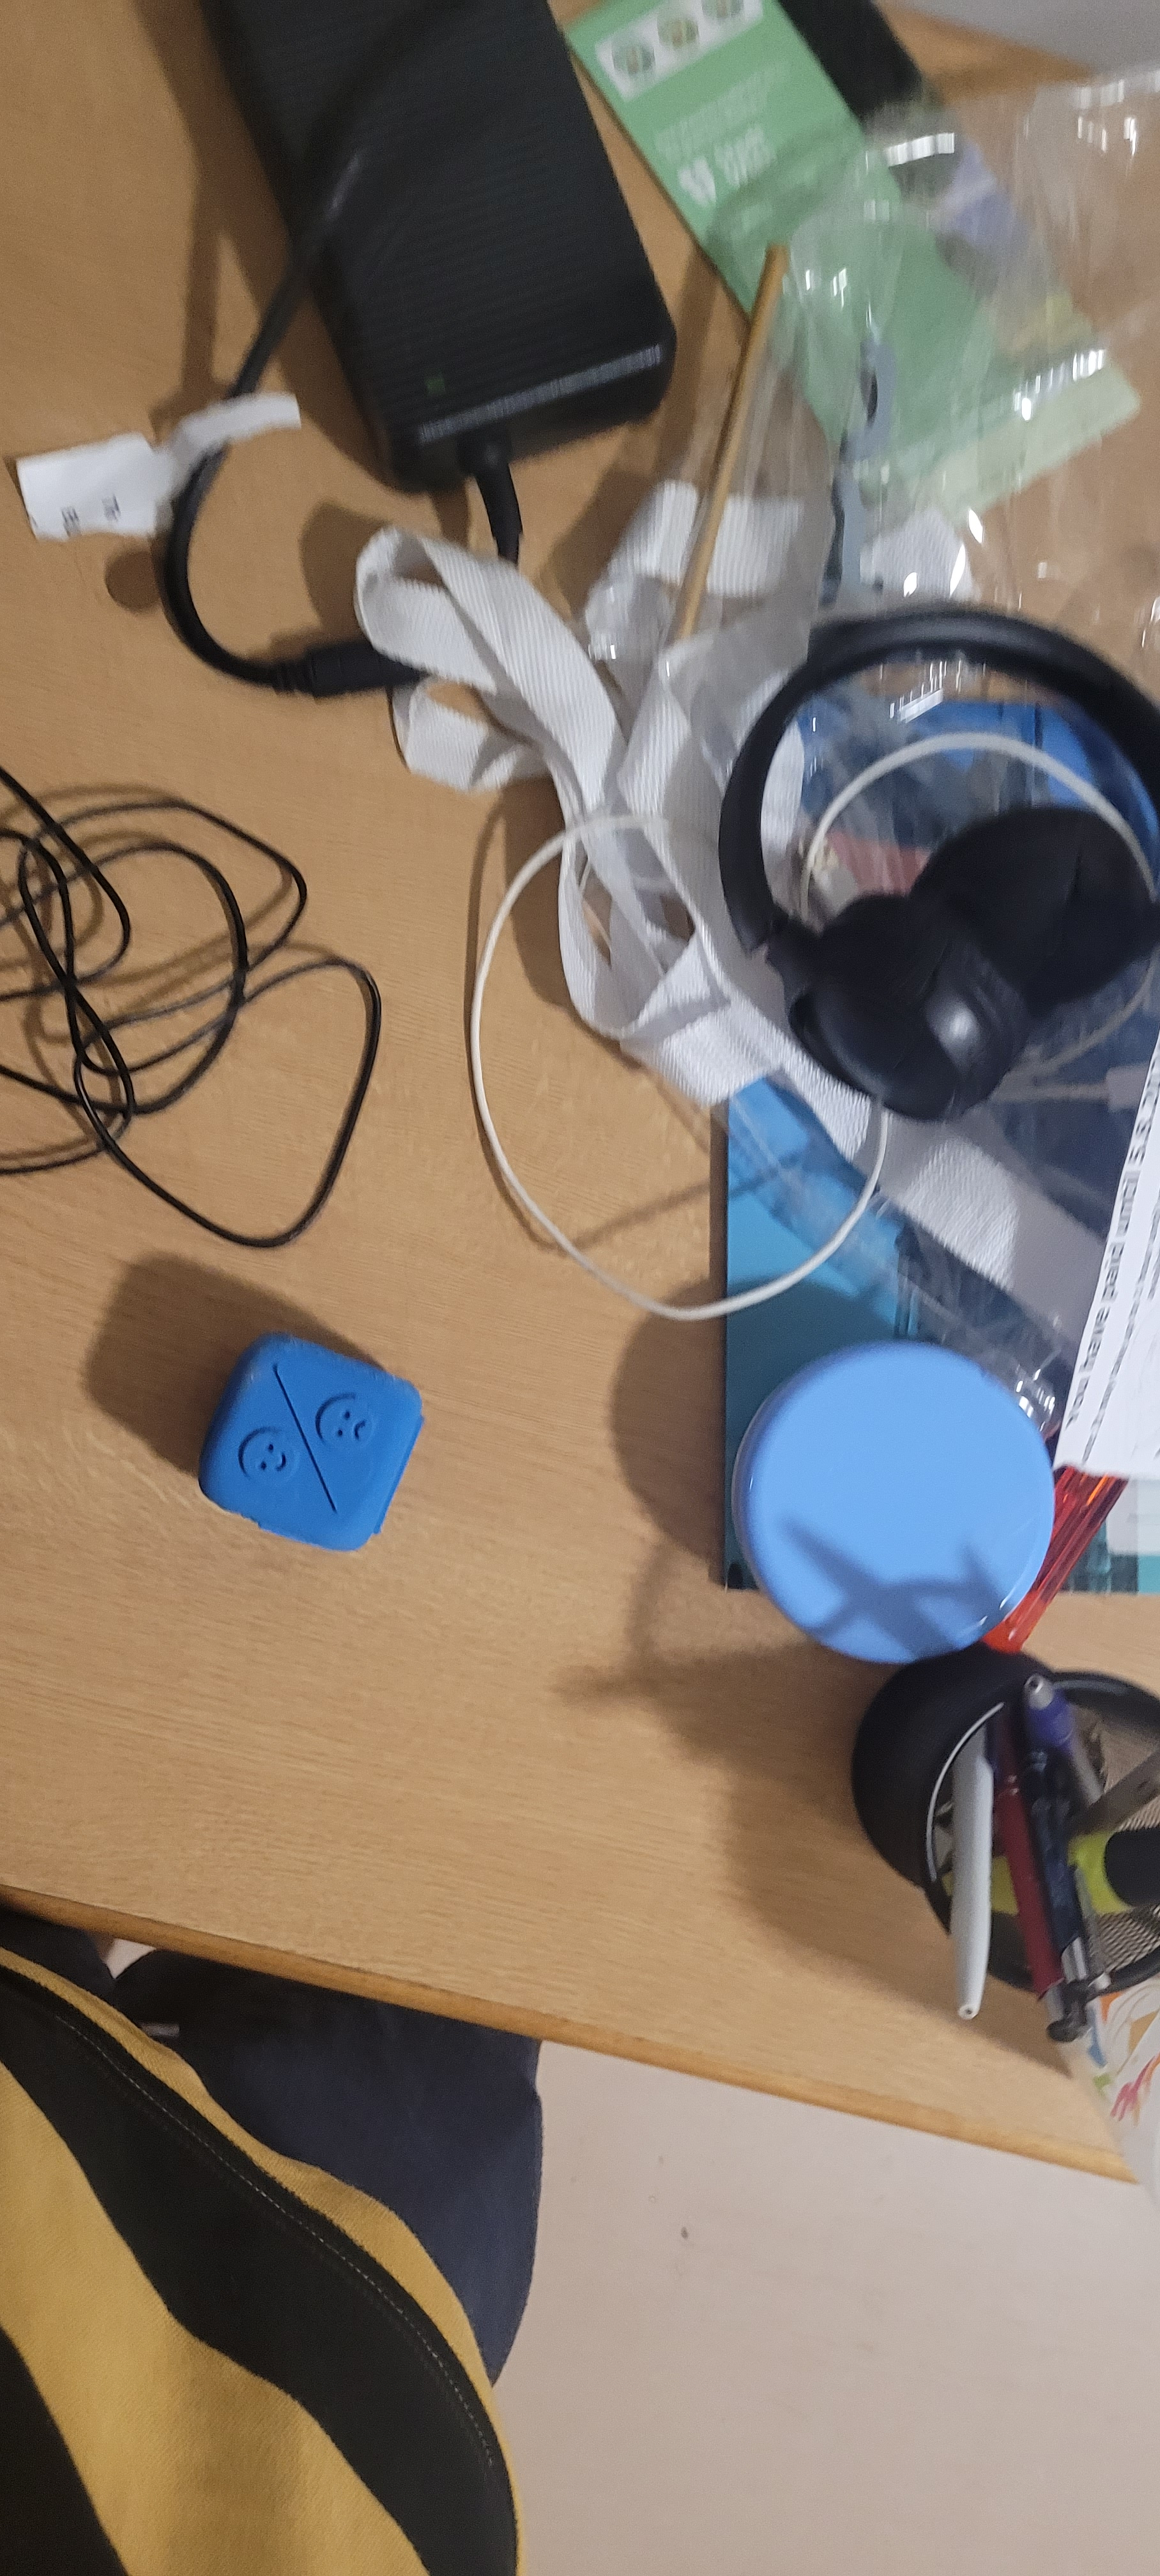Like/Dislike: (215, 1341, 422, 1559)
